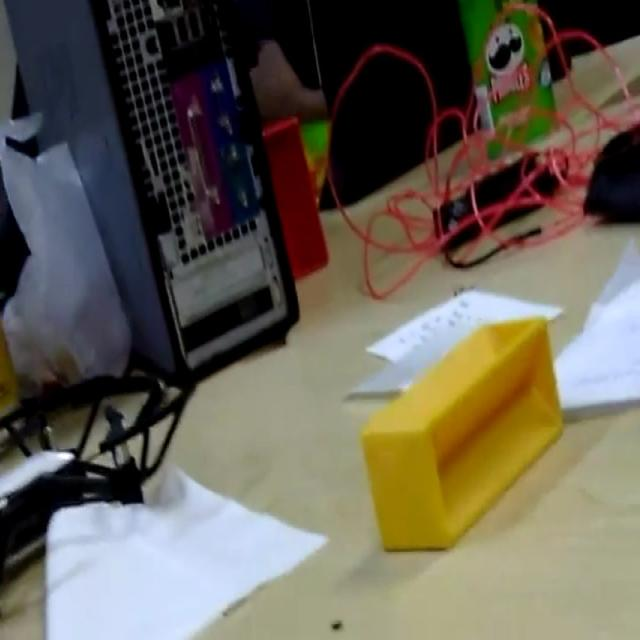red_block: (260, 114, 330, 282)
yellow_block: (360, 313, 564, 552)
